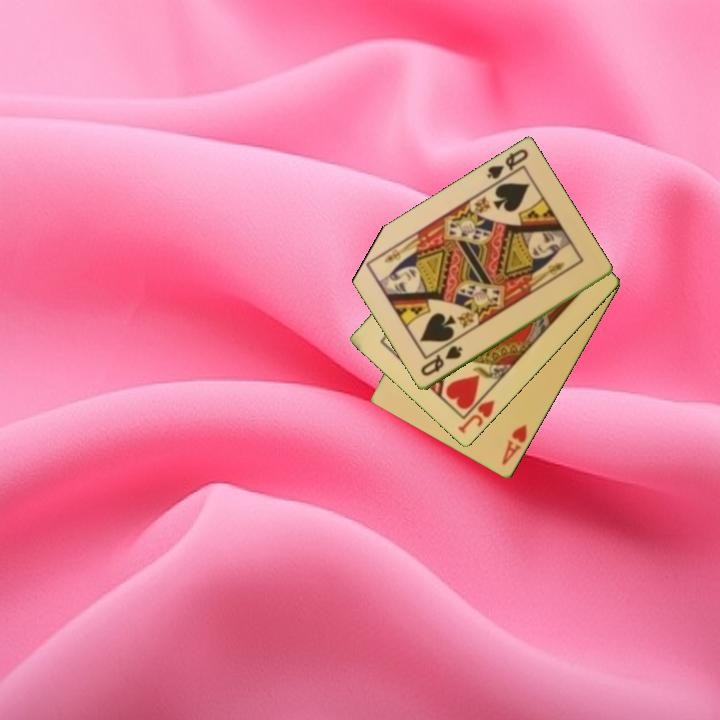Ah: (498, 421, 530, 468)
Jh: (454, 396, 498, 437)
Qs: (417, 342, 465, 380), (483, 146, 531, 183)
